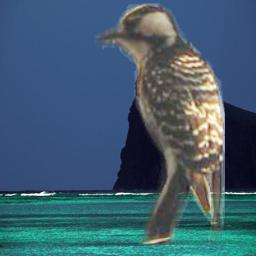Woodpecker: (95, 3, 225, 245)
